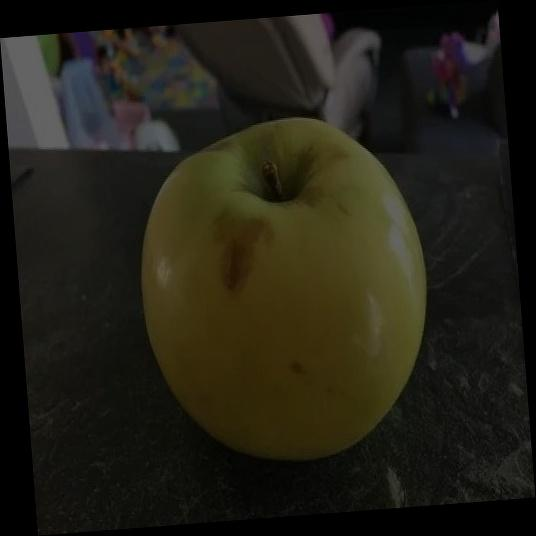green apple: (141, 116, 428, 463)
